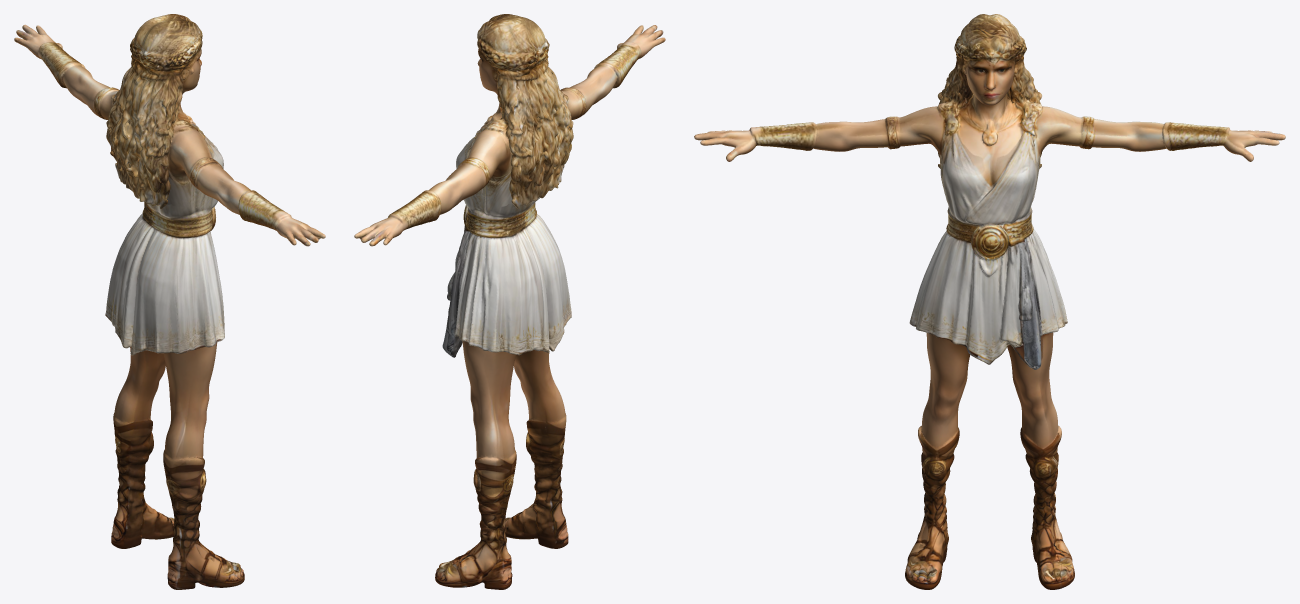
The model's file is raw-v1-lowsettings.glb.
The picture shows the model from 3 angles, left to right: view 1: azimuth 30°, elevation 25°; view 2: azimuth 150°, elevation 25°; view 3: azimuth 270°, elevation 25°; orthographic projection.
Parts seen in each view (by area): view 1: tripo_node_aba2291d-15c1-4e25-8649-ffe56dc2d298; view 2: tripo_node_aba2291d-15c1-4e25-8649-ffe56dc2d298; view 3: tripo_node_aba2291d-15c1-4e25-8649-ffe56dc2d298.
Boxes of the visible parts, x1=… form: tripo_node_aba2291d-15c1-4e25-8649-ffe56dc2d298: x1=14, y1=14, x2=325, y2=589; tripo_node_aba2291d-15c1-4e25-8649-ffe56dc2d298: x1=354, y1=14, x2=665, y2=589; tripo_node_aba2291d-15c1-4e25-8649-ffe56dc2d298: x1=694, y1=14, x2=1285, y2=589.
Bounding box in the file's own units: 0.1781 × 1 × 0.9746.
1 material, 1 textured.
